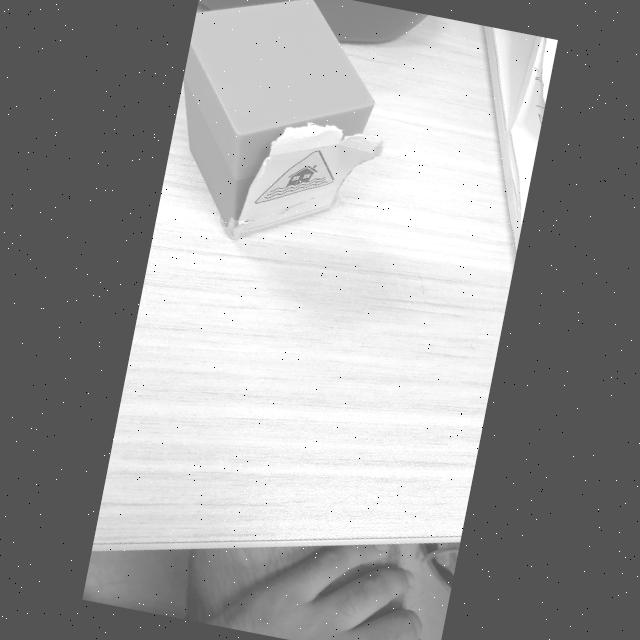Tsunami: (255, 150, 333, 204)
